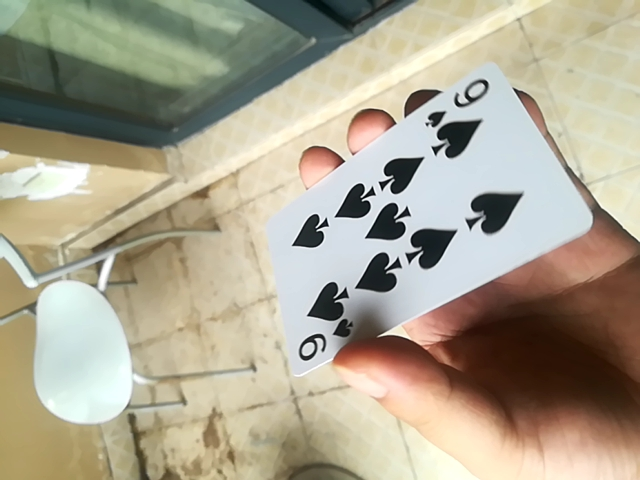ht 9: (260, 65, 594, 380)
